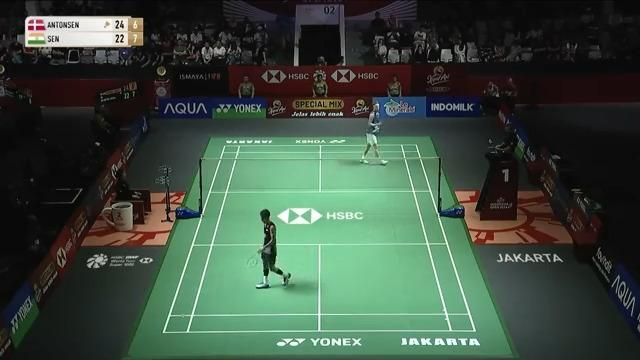Shuttlecock: (178, 312, 188, 320)
